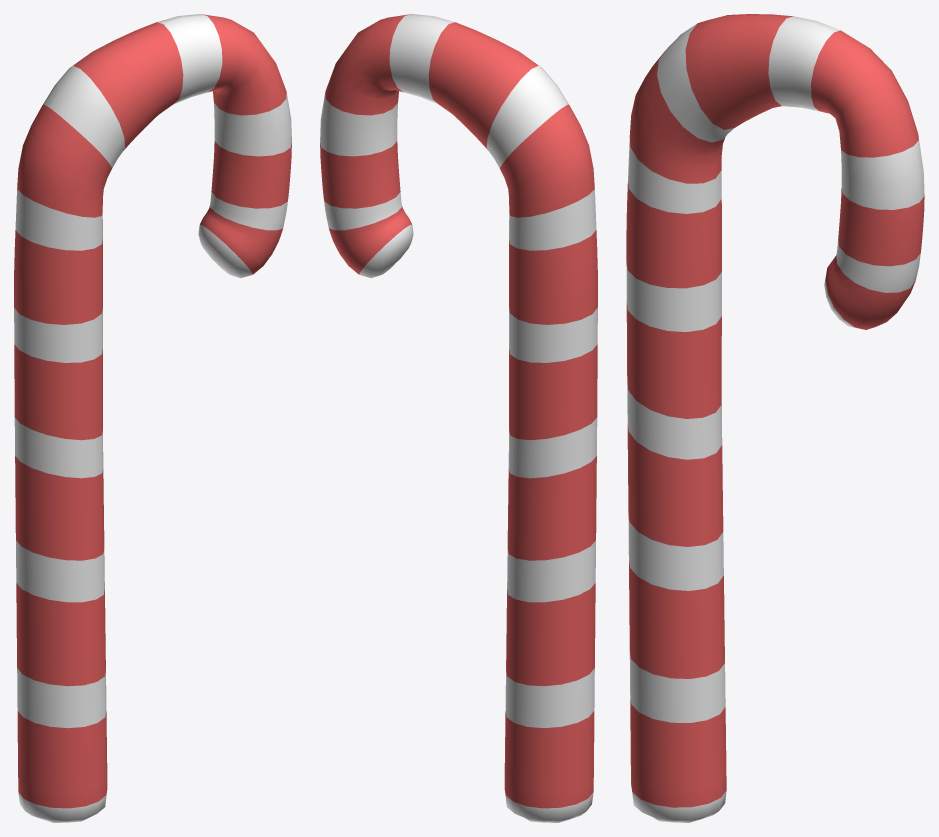
Rendered from candycane.fbx.
3 renders of one model, left to right at view 1: azimuth 30°, elevation 25°; view 2: azimuth 150°, elevation 25°; view 3: azimuth 330°, elevation 25°, orthographic. The views are drawn at different scales.
Parts seen in each view (by area): view 1: Candy Cane; view 2: Candy Cane; view 3: Candy Cane.
Boxes of the visible parts, x1,y1,x2,y2 form: Candy Cane: (14,14,291,822); Candy Cane: (320,14,597,822); Candy Cane: (626,14,924,822).
Size of the model in its own units: 3.79 by 10.35 by 1.11.
